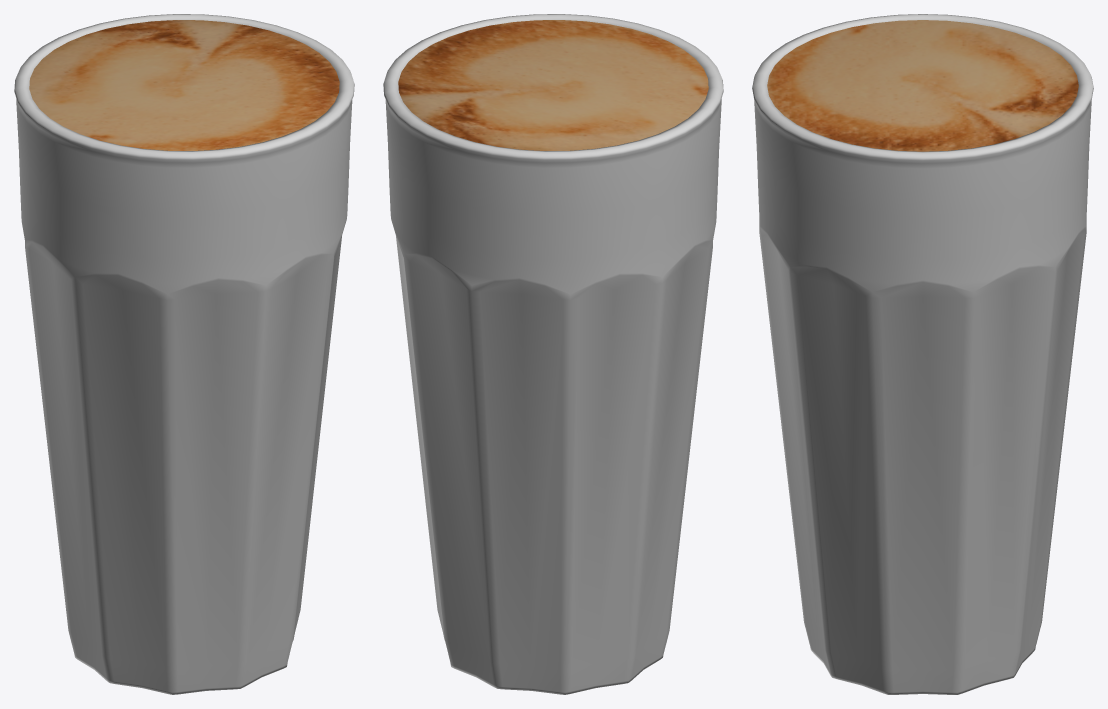
File: glass.glb
3 views of the same model, side by side, from view 1: azimuth 30°, elevation 25°; view 2: azimuth 150°, elevation 25°; view 3: azimuth 270°, elevation 25° (orthographic).
Visible parts, largest first — view 1: glass, coffee; view 2: glass, coffee; view 3: glass, coffee.
Part boxes in pixels (x1=…): glass: x1=14, y1=14, x2=354, y2=694; coffee: x1=29, y1=20, x2=339, y2=150; glass: x1=383, y1=14, x2=723, y2=694; coffee: x1=398, y1=20, x2=708, y2=150; glass: x1=752, y1=14, x2=1093, y2=694; coffee: x1=767, y1=20, x2=1078, y2=151.
Size of the model in its own units: 0.7419 by 1.36 by 0.7419.
Materials: 2 (1 with a texture image).
